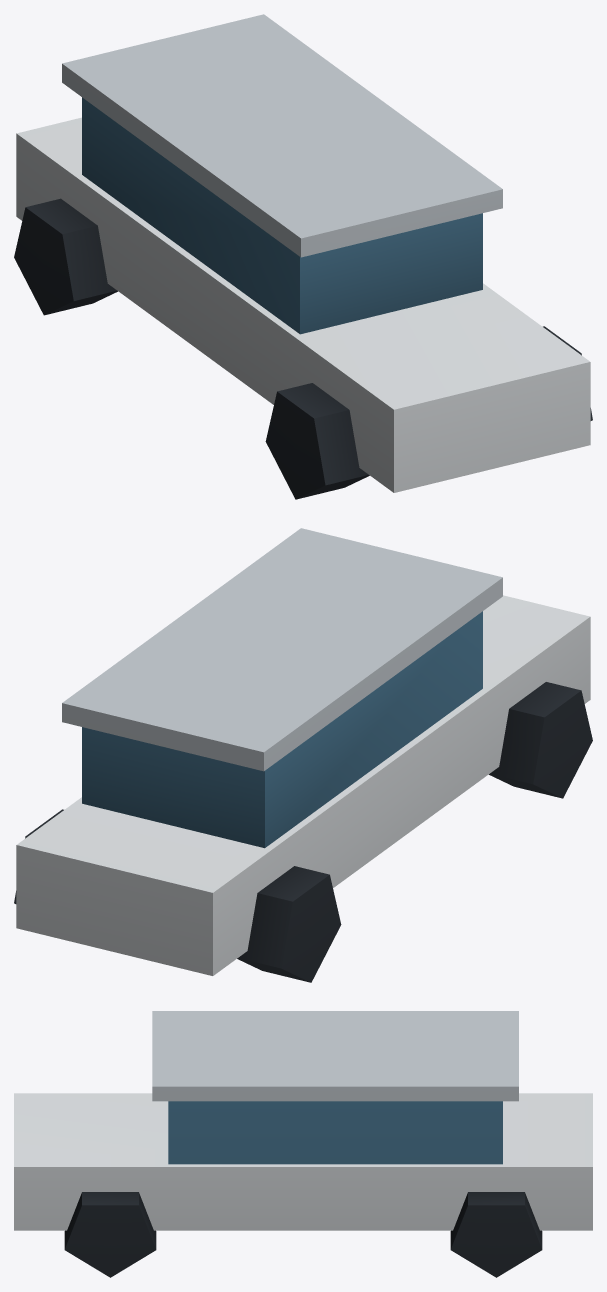
The model's file is car-parked.glb.
The picture shows the model from 3 angles, top to bottom: view 1: azimuth 30°, elevation 25°; view 2: azimuth 150°, elevation 25°; view 3: azimuth 270°, elevation 25°; orthographic projection. The views are drawn at different scales.
Visible parts, largest first — view 1: car-parked; view 2: car-parked; view 3: car-parked.
Part boxes in pixels (box(x1,y1,x2,y2)): car-parked: box(14, 14, 592, 499); car-parked: box(14, 528, 592, 982); car-parked: box(14, 1011, 592, 1277).
Size of the model in its own units: 1.8 by 1.5 by 4.4.
